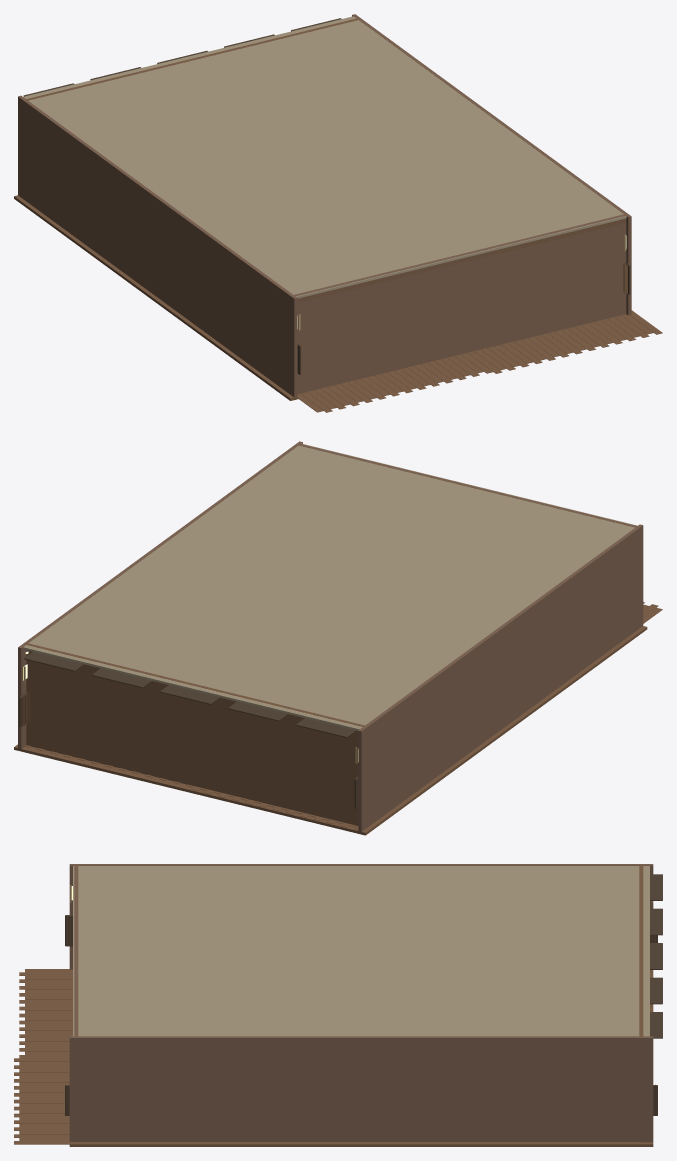
Rendered from vinyl-studio.glb.
3 renders of one model, top to bottom at view 1: azimuth 30°, elevation 25°; view 2: azimuth 150°, elevation 25°; view 3: azimuth 270°, elevation 25°, orthographic. The views are drawn at different scales.
Parts seen in each view (by area): view 1: studio-plaster, studio-brick, studio-oak, studio-felt; view 2: studio-plaster, studio-oak, studio-brick, studio-felt; view 3: studio-plaster, studio-brick, studio-oak, studio-felt.
Boxes of the visible parts, x1=… form: studio-plaster: x1=23, y1=16, x2=626, y2=298; studio-brick: x1=18, y1=14, x2=631, y2=397; studio-oak: x1=14, y1=18, x2=662, y2=412; studio-felt: x1=23, y1=18, x2=630, y2=374; studio-plaster: x1=23, y1=443, x2=637, y2=730; studio-oak: x1=14, y1=602, x2=662, y2=835; studio-brick: x1=18, y1=441, x2=643, y2=831; studio-felt: x1=19, y1=651, x2=358, y2=808; studio-plaster: x1=73, y1=866, x2=649, y2=1036; studio-brick: x1=69, y1=864, x2=653, y2=1142; studio-oak: x1=14, y1=865, x2=655, y2=1146; studio-felt: x1=65, y1=874, x2=662, y2=1115.
Bounding box in the file's own units: 31.09 × 8.7 × 47.79.
